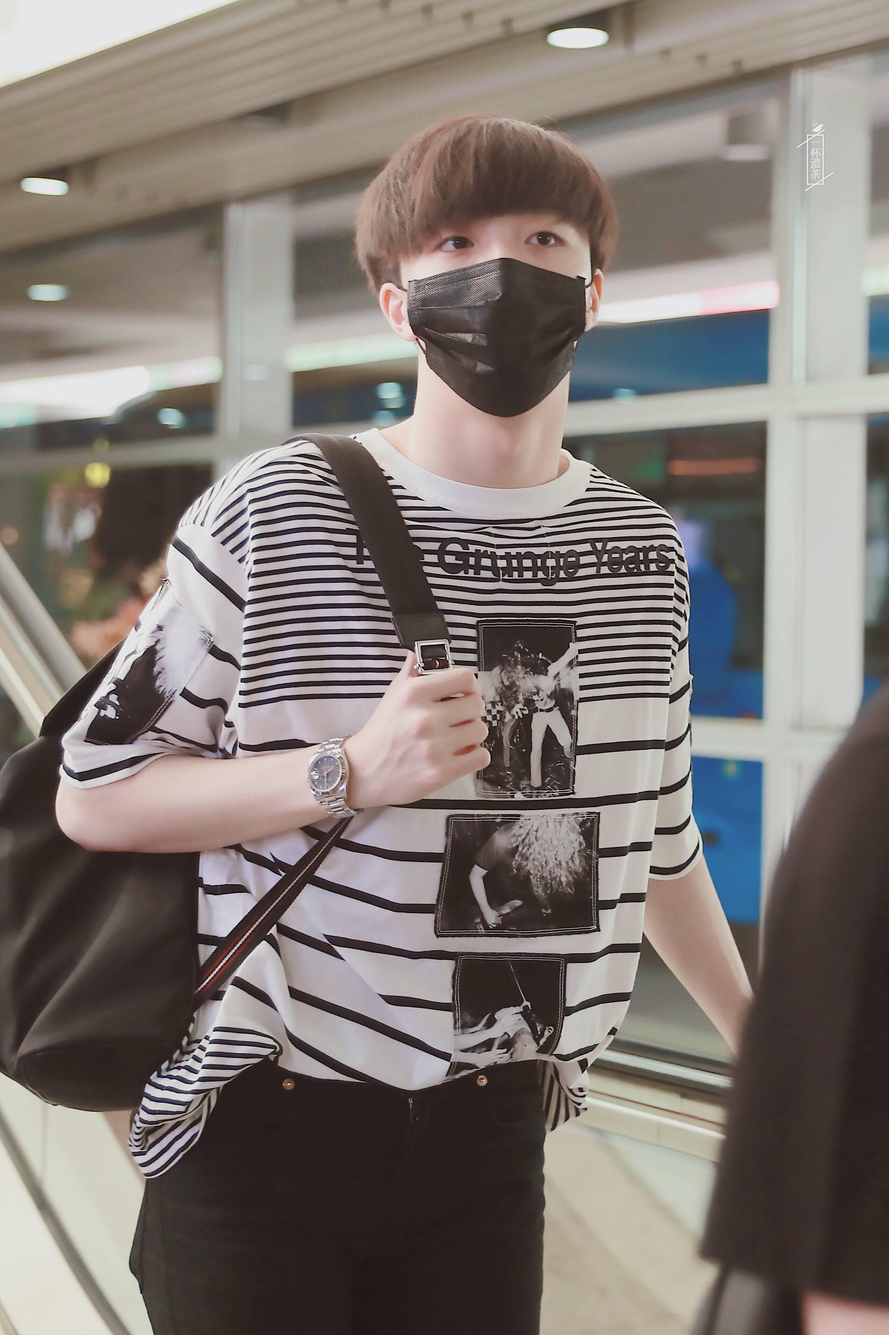OK: (406, 195, 588, 417)
